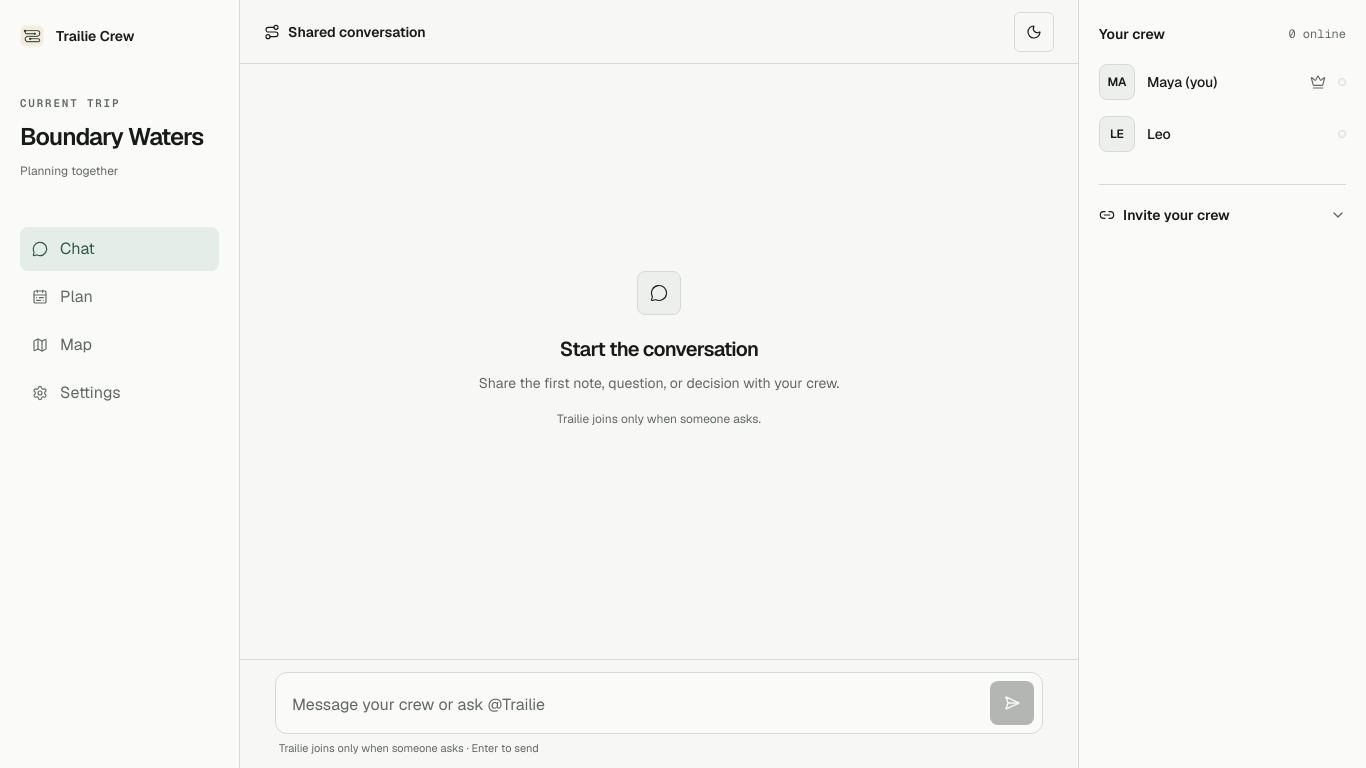
Test: TripShell › explains the empty map and returns to the planning workflow
Step 1. Click the button "Map" → (120, 345), box 20,323 -> 219,367
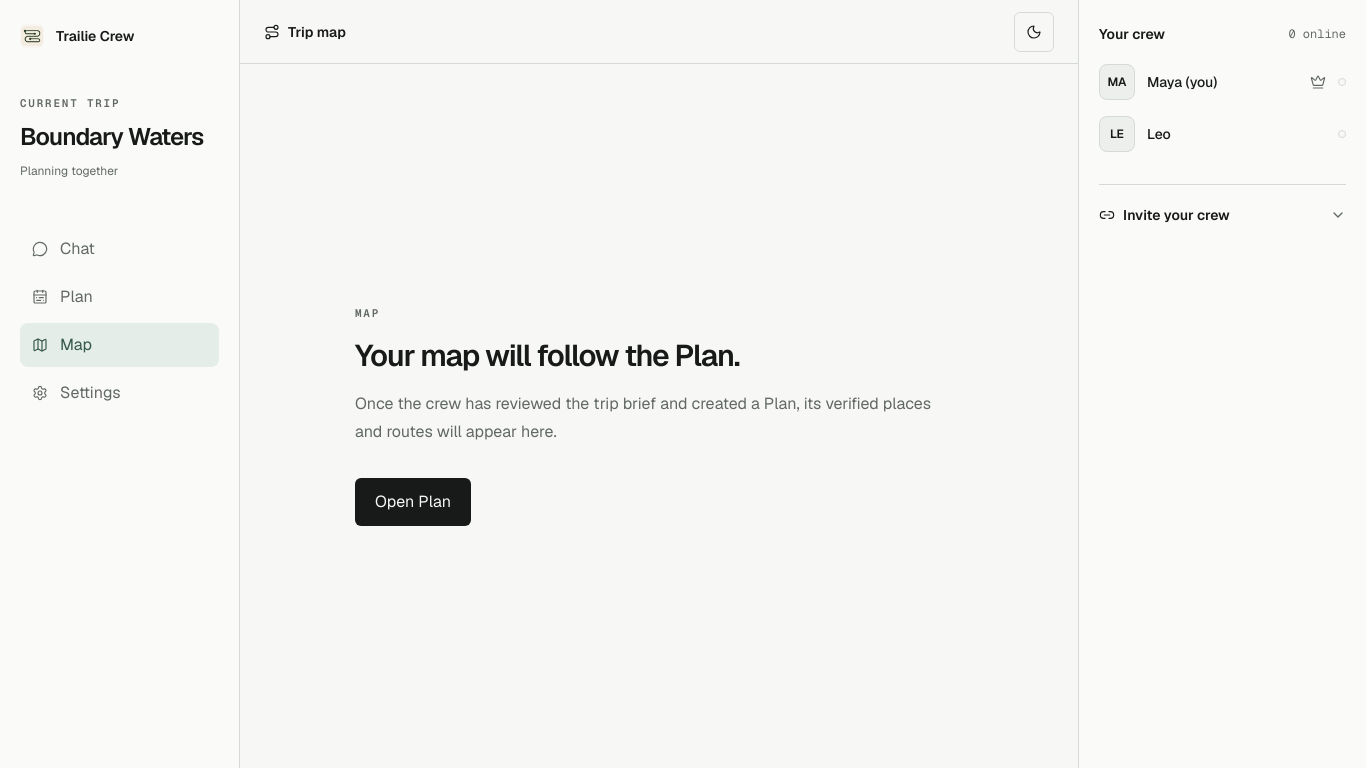
Now the heading "Your map will follow the Plan." is shown, box 355,336 -> 739,375
Now the text "Trip map" is shown, box 288,22 -> 346,42
Step 2. Click the button "Open Plan" → (413, 502), box 355,478 -> 471,526
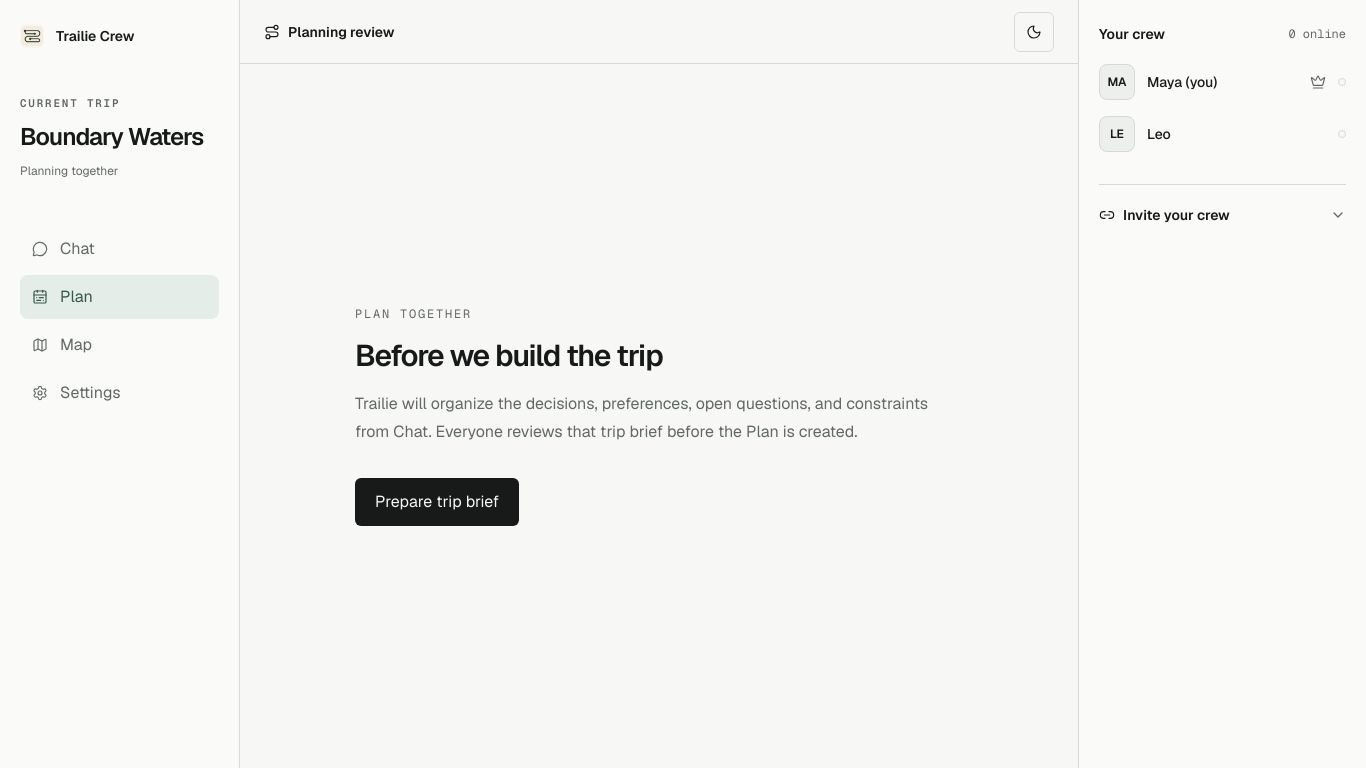
Now the button "Prepare trip brief" is shown, box 355,478 -> 519,526
